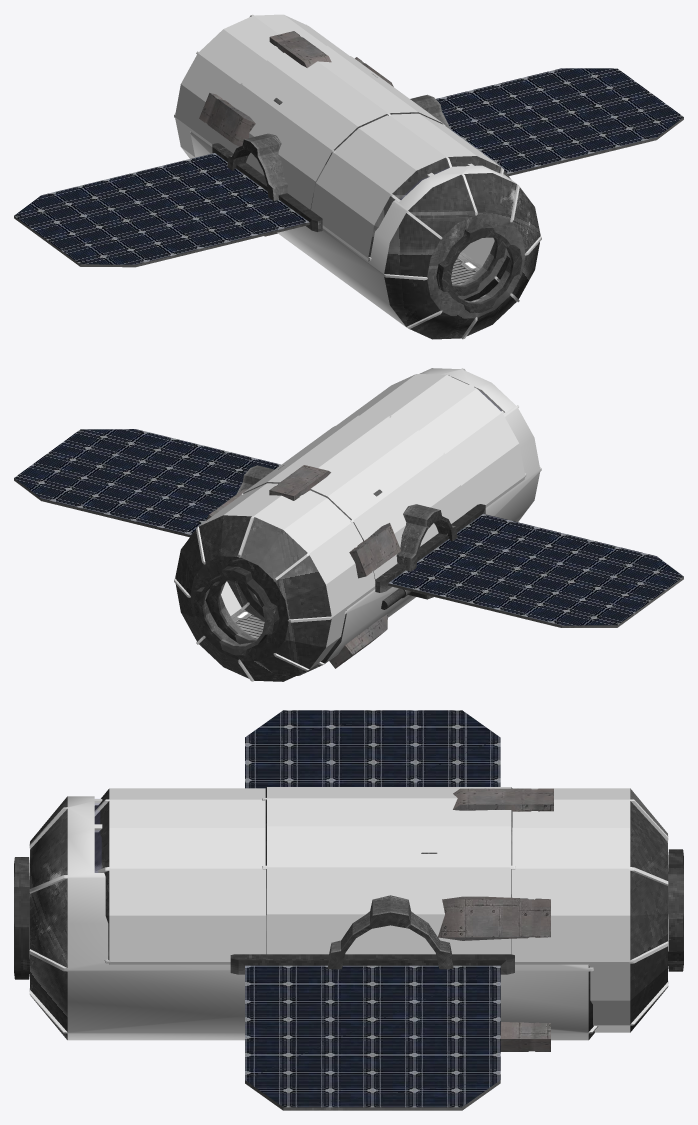
The model's file is station_modules.glb.
3 views of the same model, one above another, from view 1: azimuth 30°, elevation 25°; view 2: azimuth 150°, elevation 25°; view 3: azimuth 270°, elevation 25° (orthographic). The views are drawn at different scales.
Parts seen in each view (by area): view 1: Station Solar Panel Module, Station Module 1, Station Module Lander; view 2: Station Solar Panel Module, Station Module Lander, Station Module 1; view 3: Station Solar Panel Module, Station Module 1, Station Module Lander.
Part boxes in pixels (left/top/right/bottom): Station Solar Panel Module: left=14, top=14, right=683, bottom=301; Station Module 1: left=189, top=31, right=541, bottom=339; Station Module Lander: left=220, top=45, right=449, bottom=209; Station Solar Panel Module: left=14, top=374, right=683, bottom=681; Station Module Lander: left=227, top=415, right=465, bottom=621; Station Module 1: left=205, top=368, right=541, bottom=675; Station Solar Panel Module: left=94, top=710, right=683, bottom=1110; Station Module 1: left=14, top=788, right=598, bottom=1051; Station Module Lander: left=262, top=787, right=515, bottom=969.
Bounding box in the file's own units: 20.38 × 5.76 × 14.53.
Materials: 7 (6 with a texture image).
